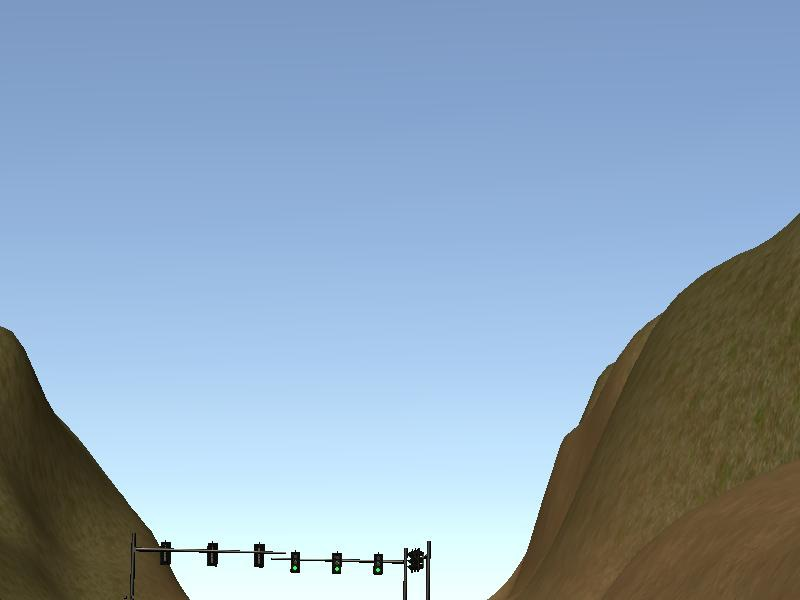green_light: (291, 552, 300, 575), (334, 555, 342, 576), (375, 554, 383, 575)
